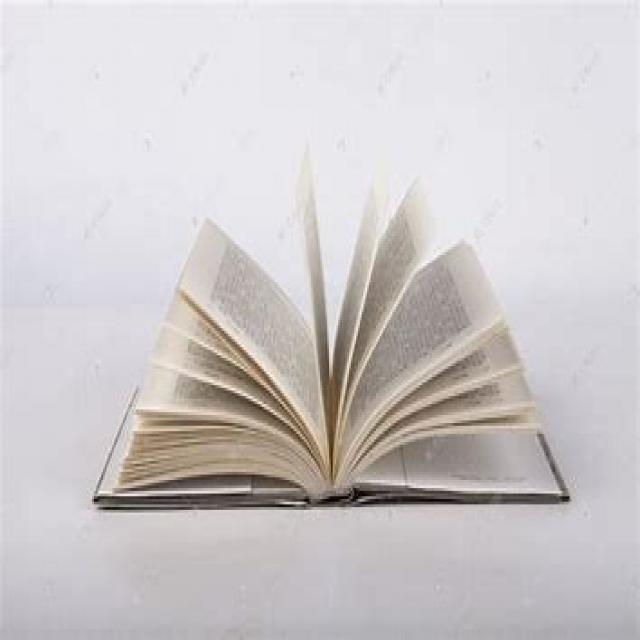pen: (71, 141, 600, 563)
